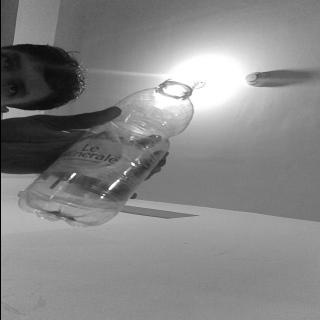plastic_bottles: (17, 78, 193, 226)
